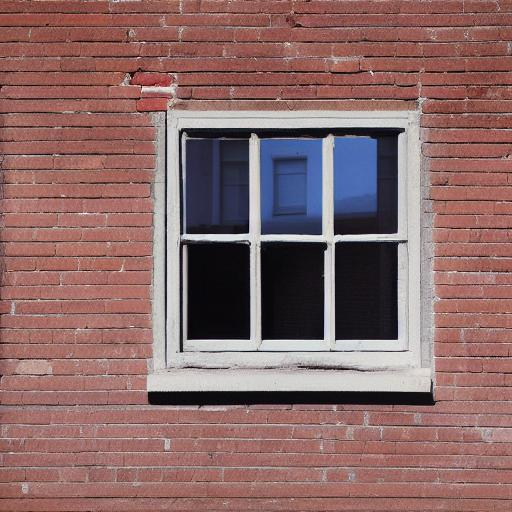Window: (146, 104, 436, 399)
